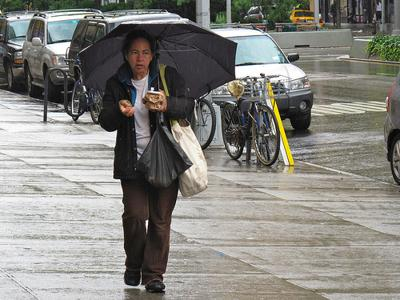person: (98, 29, 196, 293)
